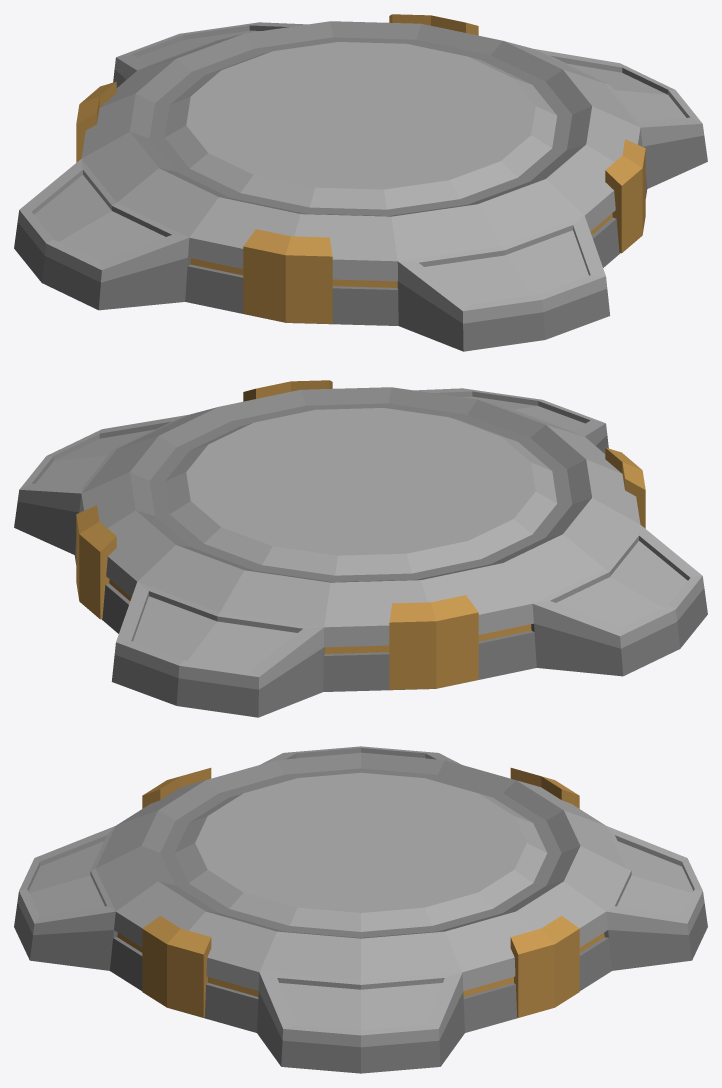
Rendered from props_base.glb.
The picture shows the model from 3 angles, top to bottom: view 1: azimuth 30°, elevation 25°; view 2: azimuth 150°, elevation 25°; view 3: azimuth 270°, elevation 25°; orthographic projection. The views are drawn at different scales.
Parts seen in each view (by area): view 1: Props_Base; view 2: Props_Base; view 3: Props_Base.
Part boxes in pixels (box(x1,y1,x2,y2)): Props_Base: box(14, 14, 707, 351); Props_Base: box(14, 380, 707, 717); Props_Base: box(14, 746, 707, 1073).
Bounding box in the file's own units: 2.4 × 0.3203 × 2.4.
